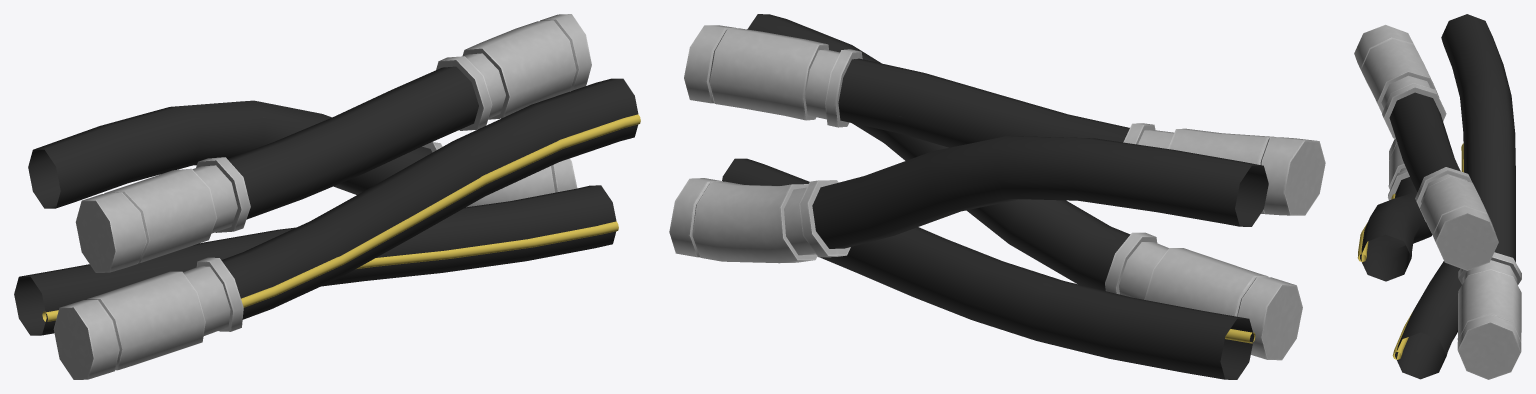
Rendered from ElectricalWires03_11.glb.
The picture shows the model from 3 angles, left to right: view 1: azimuth 30°, elevation 25°; view 2: azimuth 150°, elevation 25°; view 3: azimuth 270°, elevation 25°; orthographic projection. The views are drawn at different scales.
Visible parts, largest first — view 1: NurbsPath_011; view 2: NurbsPath_011; view 3: NurbsPath_011.
Boxes of the visible parts, <box> form: NurbsPath_011: <box>14,14,640,379</box>; NurbsPath_011: <box>669,14,1325,379</box>; NurbsPath_011: <box>1354,14,1521,379</box>.
Bounding box in the file's own units: 3.62 × 1.42 × 1.26.
1 material, 1 textured.
